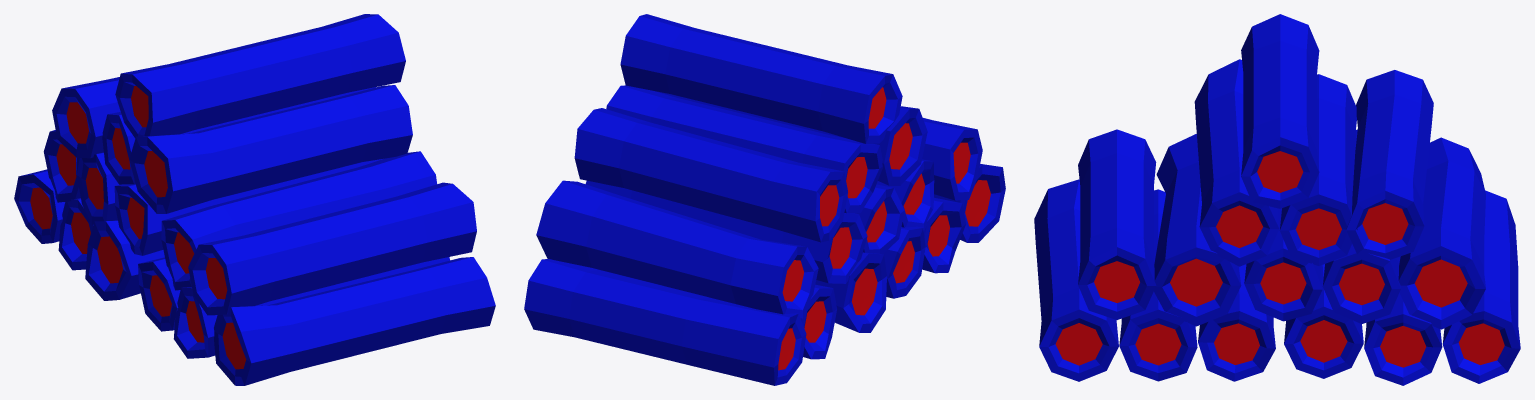
File: SM_Short_LogStack2.fbx
The picture shows the model from 3 angles, left to right: view 1: azimuth 30°, elevation 25°; view 2: azimuth 150°, elevation 25°; view 3: azimuth 270°, elevation 25°; orthographic projection. The views are drawn at different scales.
Parts seen in each view (by area): view 1: SM_Short_LogStack2; view 2: SM_Short_LogStack2; view 3: SM_Short_LogStack2.
Part boxes in pixels (box(x1,y1,x2,y2)): SM_Short_LogStack2: box(14, 14, 495, 385); SM_Short_LogStack2: box(524, 14, 1005, 385); SM_Short_LogStack2: box(1034, 14, 1520, 385).
Bounding box in the file's own units: 81.24 × 70.22 × 126.
